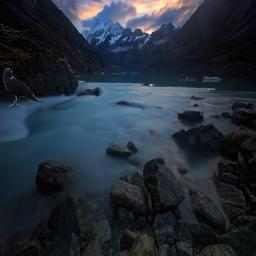Crow: (3, 68, 42, 107)
